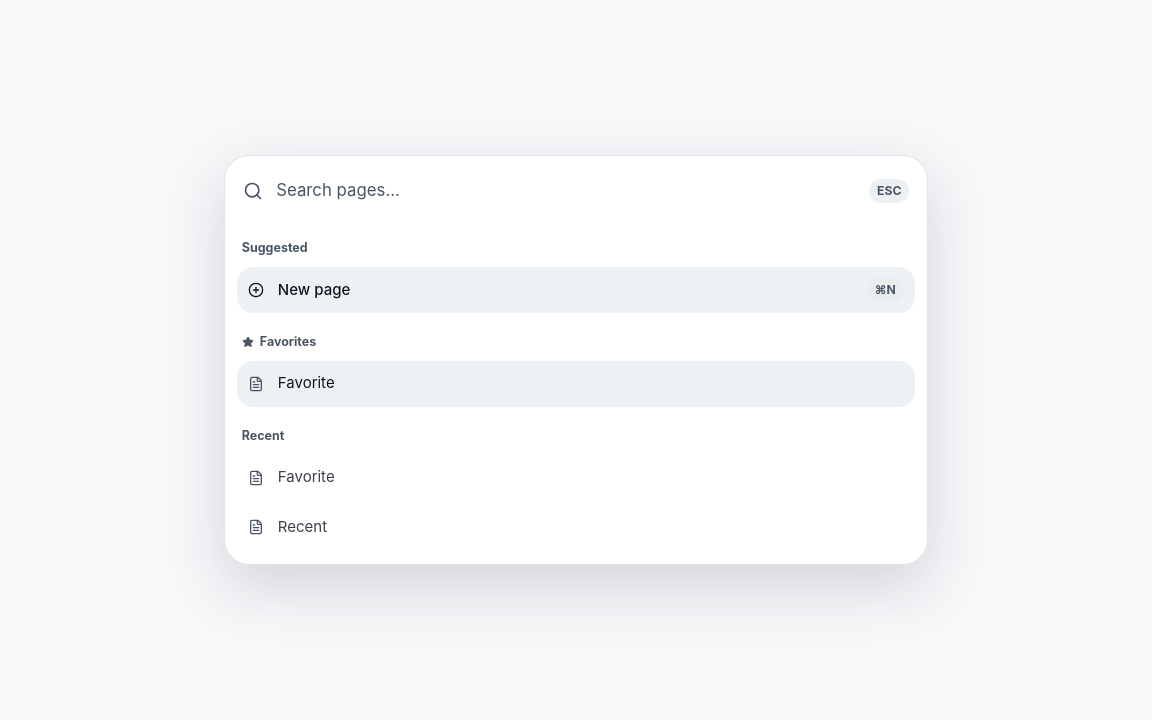
Test: CommandPalette › shows a search failure state
The image size is (1152, 720).
Step 1. Type "missing" into the field with placeholder "Search pages..." → (566, 191), box [276,178,856,203]
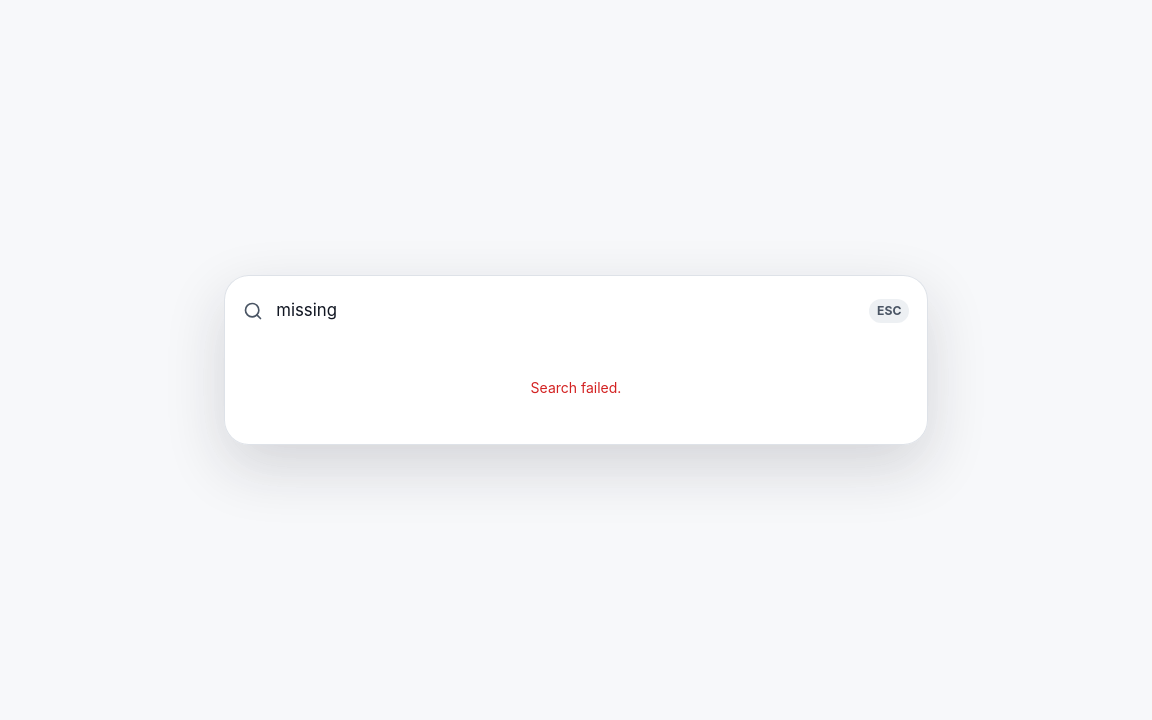
expect the text "Search failed." is shown: met, box [531,379,621,396]
